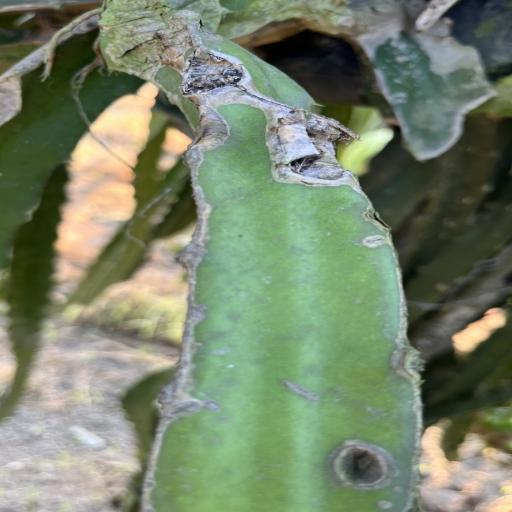stemcanker: (210, 331, 238, 377), (365, 484, 411, 510), (356, 233, 396, 255), (355, 230, 387, 251), (196, 396, 226, 416), (199, 396, 229, 416)
